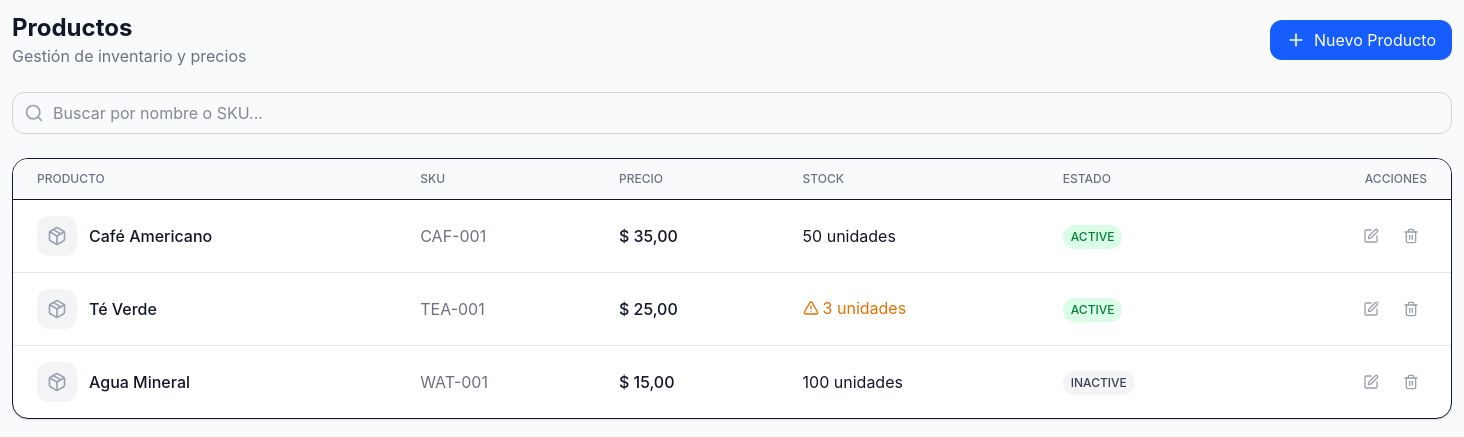
Test case: ProductsPage › Search Functionality › should filter products by name
Expected: the text "Café Americano" is shown, [89,224,212,248]
Type "Café" into the field with placeholder "Buscar por nombre o SKU..." at (732, 113), box [12,92,1452,134]
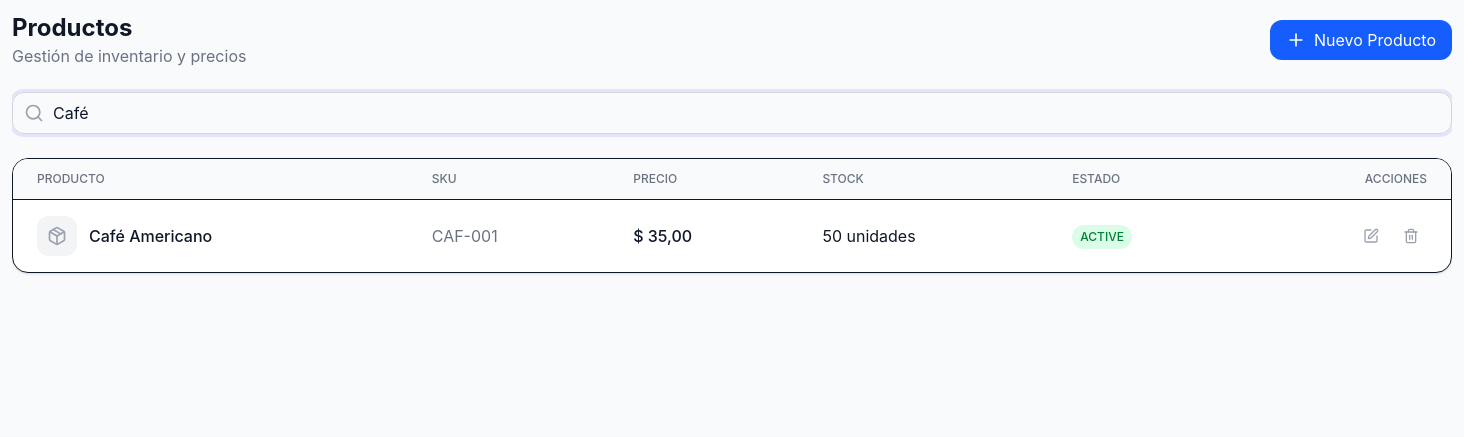
Expected: the text "Café Americano" is shown, [89,224,212,248]
Result: the text "Té Verde" is gone
Result: the text "Agua Mineral" is gone
